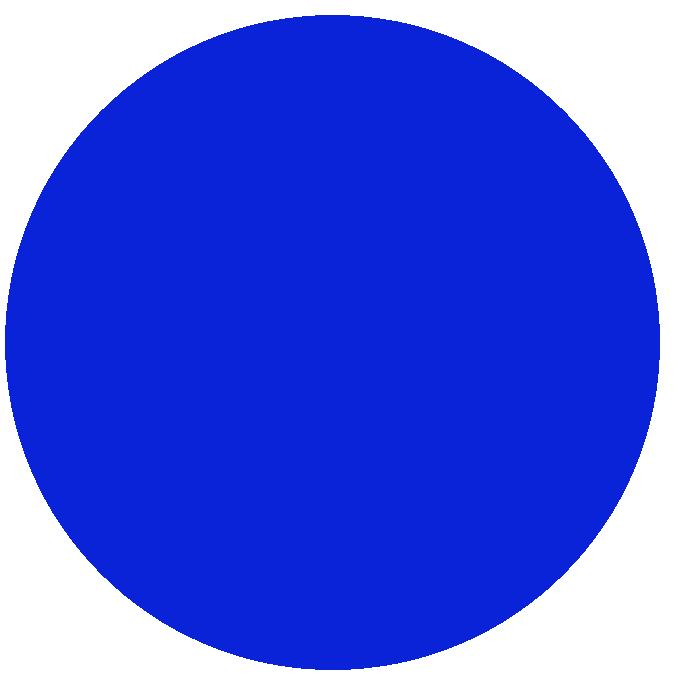blue_circle: (3, 0, 668, 683)
